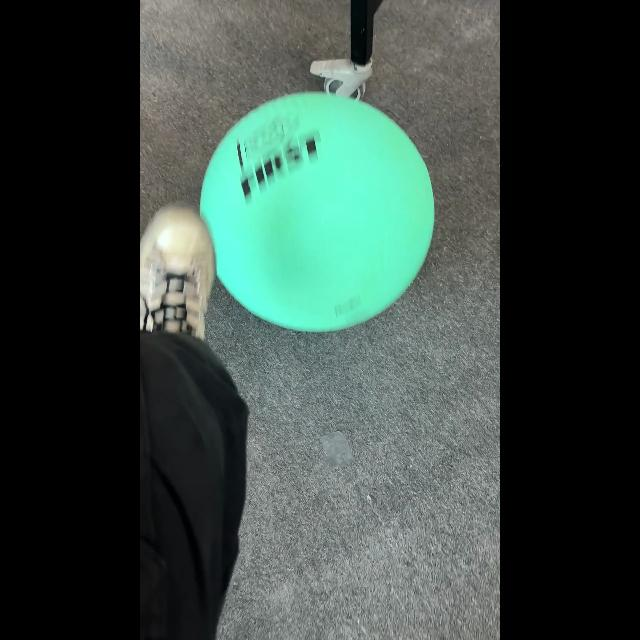ALGAE: (198, 90, 436, 332)
